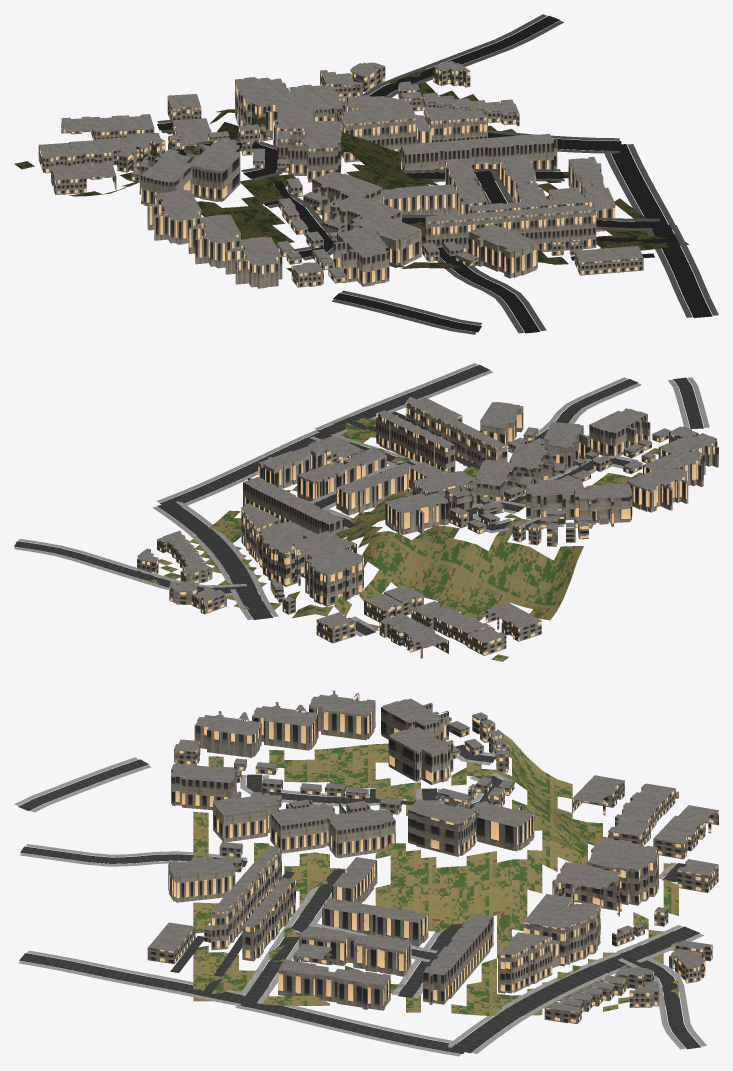
Rendered from tile_30_-1.gltf.
The picture shows the model from 3 angles, top to bottom: view 1: azimuth 30°, elevation 25°; view 2: azimuth 150°, elevation 25°; view 3: azimuth 270°, elevation 25°; orthographic projection. The views are drawn at different scales.
Parts seen in each view (by area): view 1: Buildings_col, Roads, Terrain_col, Sidewalks; view 2: Buildings_col, Terrain_col, Roads, Sidewalks; view 3: Buildings_col, Terrain_col, Roads, Sidewalks.
Part boxes in pixels (<box>): Buildings_col: <box>38,61,643,288</box>; Roads: <box>157,15,712,333</box>; Terrain_col: <box>14,67,688,271</box>; Sidewalks: <box>157,14,718,334</box>; Buildings_col: <box>137,397,718,658</box>; Terrain_col: <box>140,416,658,661</box>; Roads: <box>14,364,703,635</box>; Sidewalks: <box>14,363,709,636</box>; Buildings_col: <box>147,690,718,1024</box>; Terrain_col: <box>193,729,678,1015</box>; Roads: <box>18,744,700,1053</box>; Sidewalks: <box>14,752,706,1056</box>.
Bounding box in the file's own units: 351 × 64.23 × 372.
5 materials, 5 textured.
